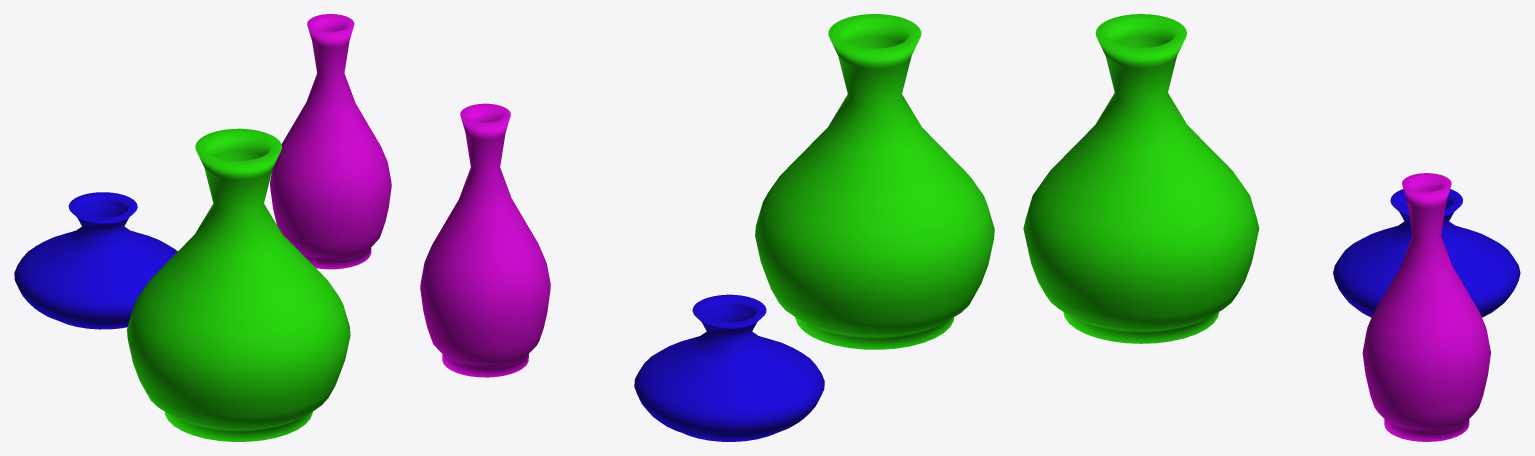
The model's file is Jarrones1.fbx.
3 views of the same model, side by side, from view 1: azimuth 30°, elevation 25°; view 2: azimuth 150°, elevation 25°; view 3: azimuth 270°, elevation 25° (orthographic). The views are drawn at different scales.
Visible parts, largest first — view 1: Cylinder; view 2: Cylinder; view 3: Cylinder.
Boxes of the visible parts, x1,y1,x2,y2 form: Cylinder: [14, 14, 391, 441]; Cylinder: [420, 14, 994, 441]; Cylinder: [1023, 14, 1520, 441].
Bounding box in the file's own units: 179 × 119 × 194.
